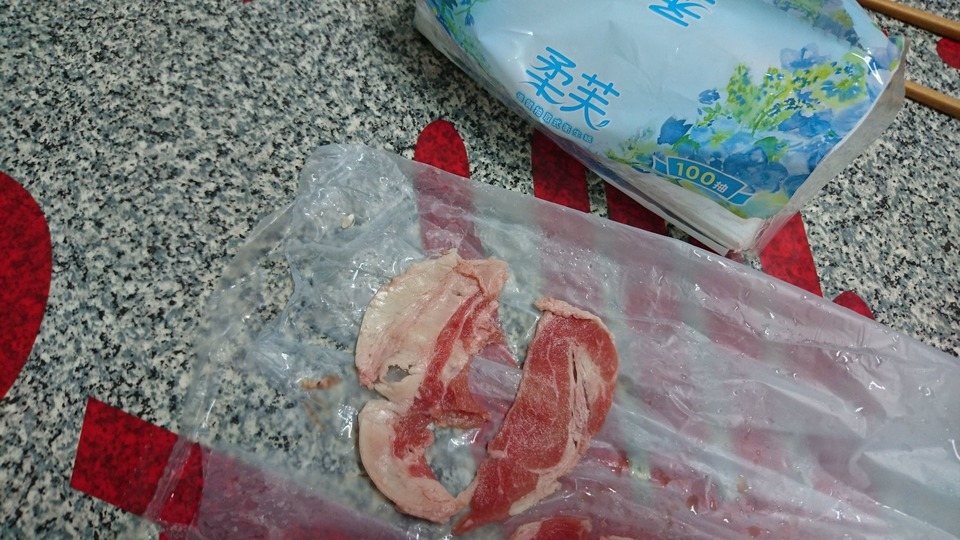restructured meat: (352, 254, 617, 540)
